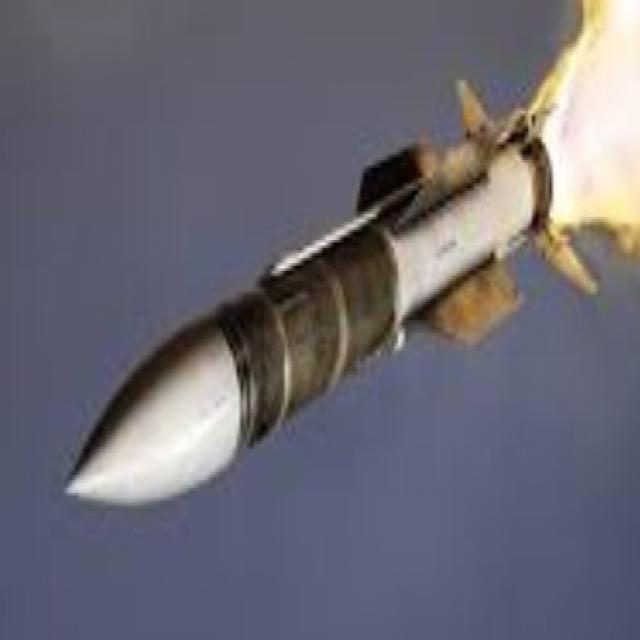missile: (59, 84, 605, 514)
